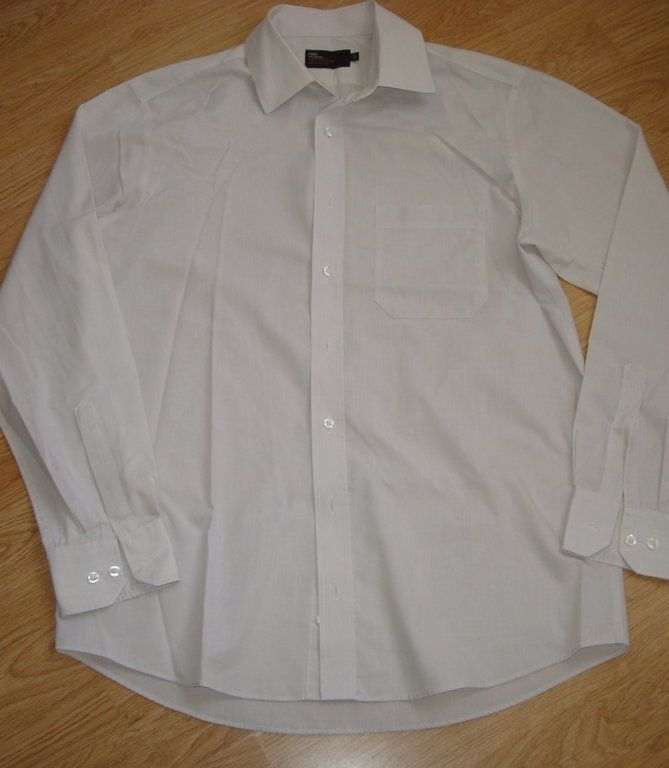clothes: (3, 4, 669, 741)
